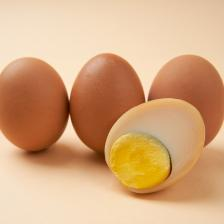egg: (104, 97, 206, 195), (69, 52, 146, 154), (147, 53, 224, 151), (0, 56, 70, 153)
